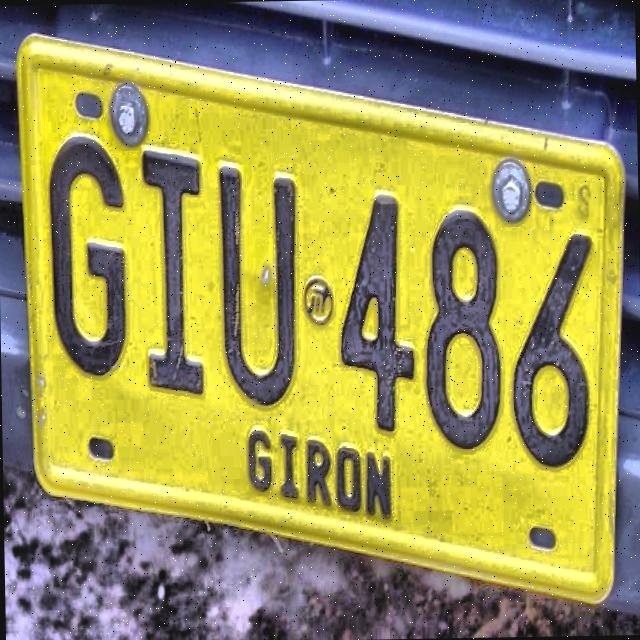4: (330, 181, 426, 447)
6: (505, 226, 602, 494)
8: (420, 188, 516, 475)
G: (43, 126, 135, 391)
I: (138, 146, 211, 409)
U: (212, 152, 303, 418)
